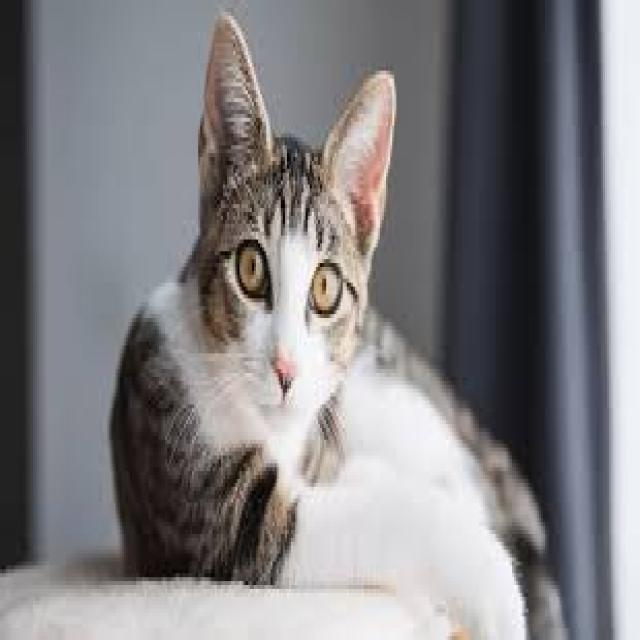cat: (107, 10, 571, 640)
